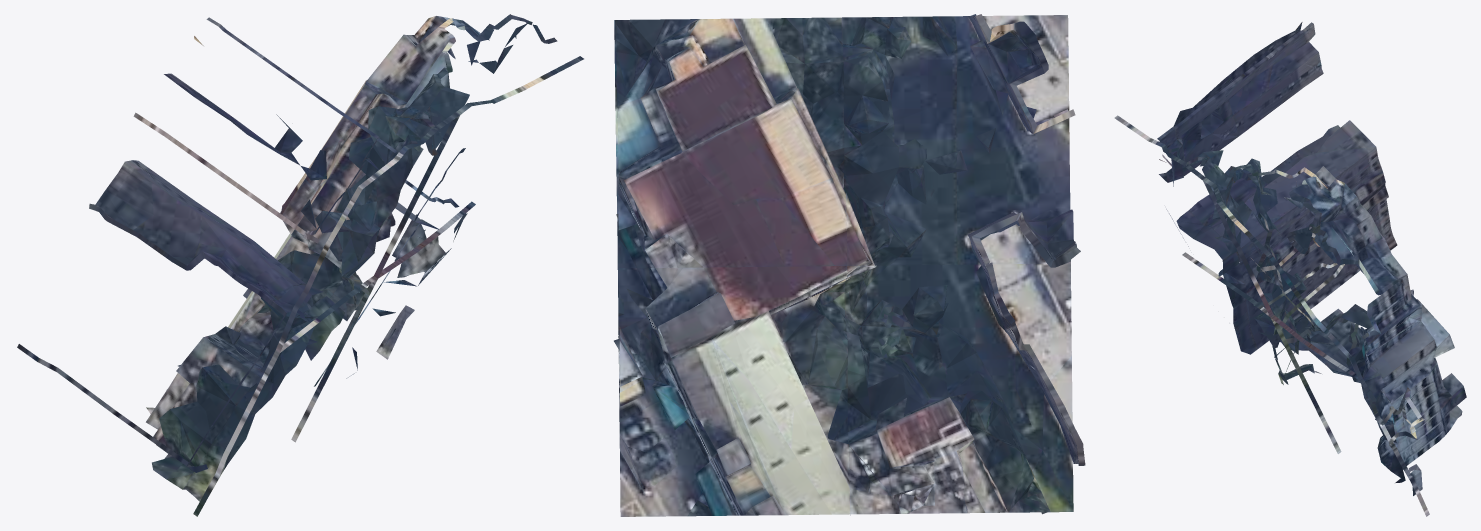
3 views of the same model, side by side, from view 1: azimuth 30°, elevation 25°; view 2: azimuth 150°, elevation 25°; view 3: azimuth 270°, elevation 25° (orthographic). The views are drawn at different scales.
Bounding box in the file's own units: 97.95 × 87.4 × 71.36.
Materials: 2 (2 with a texture image).
